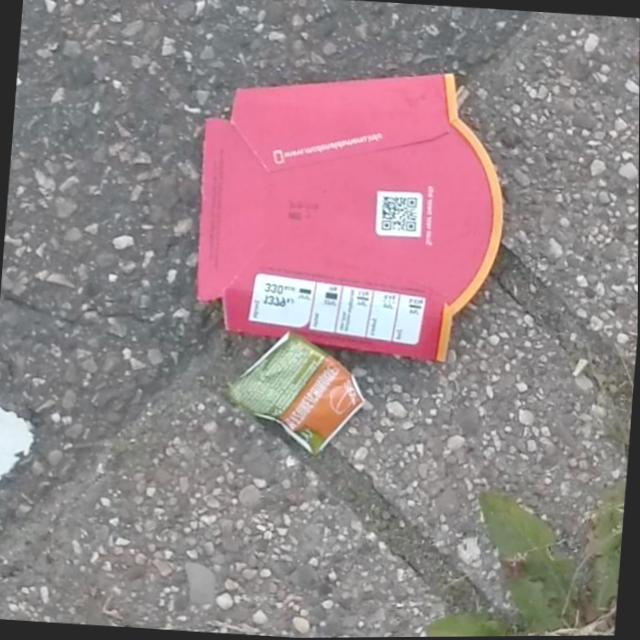Paper: (184, 50, 516, 371), (0, 385, 38, 519)
